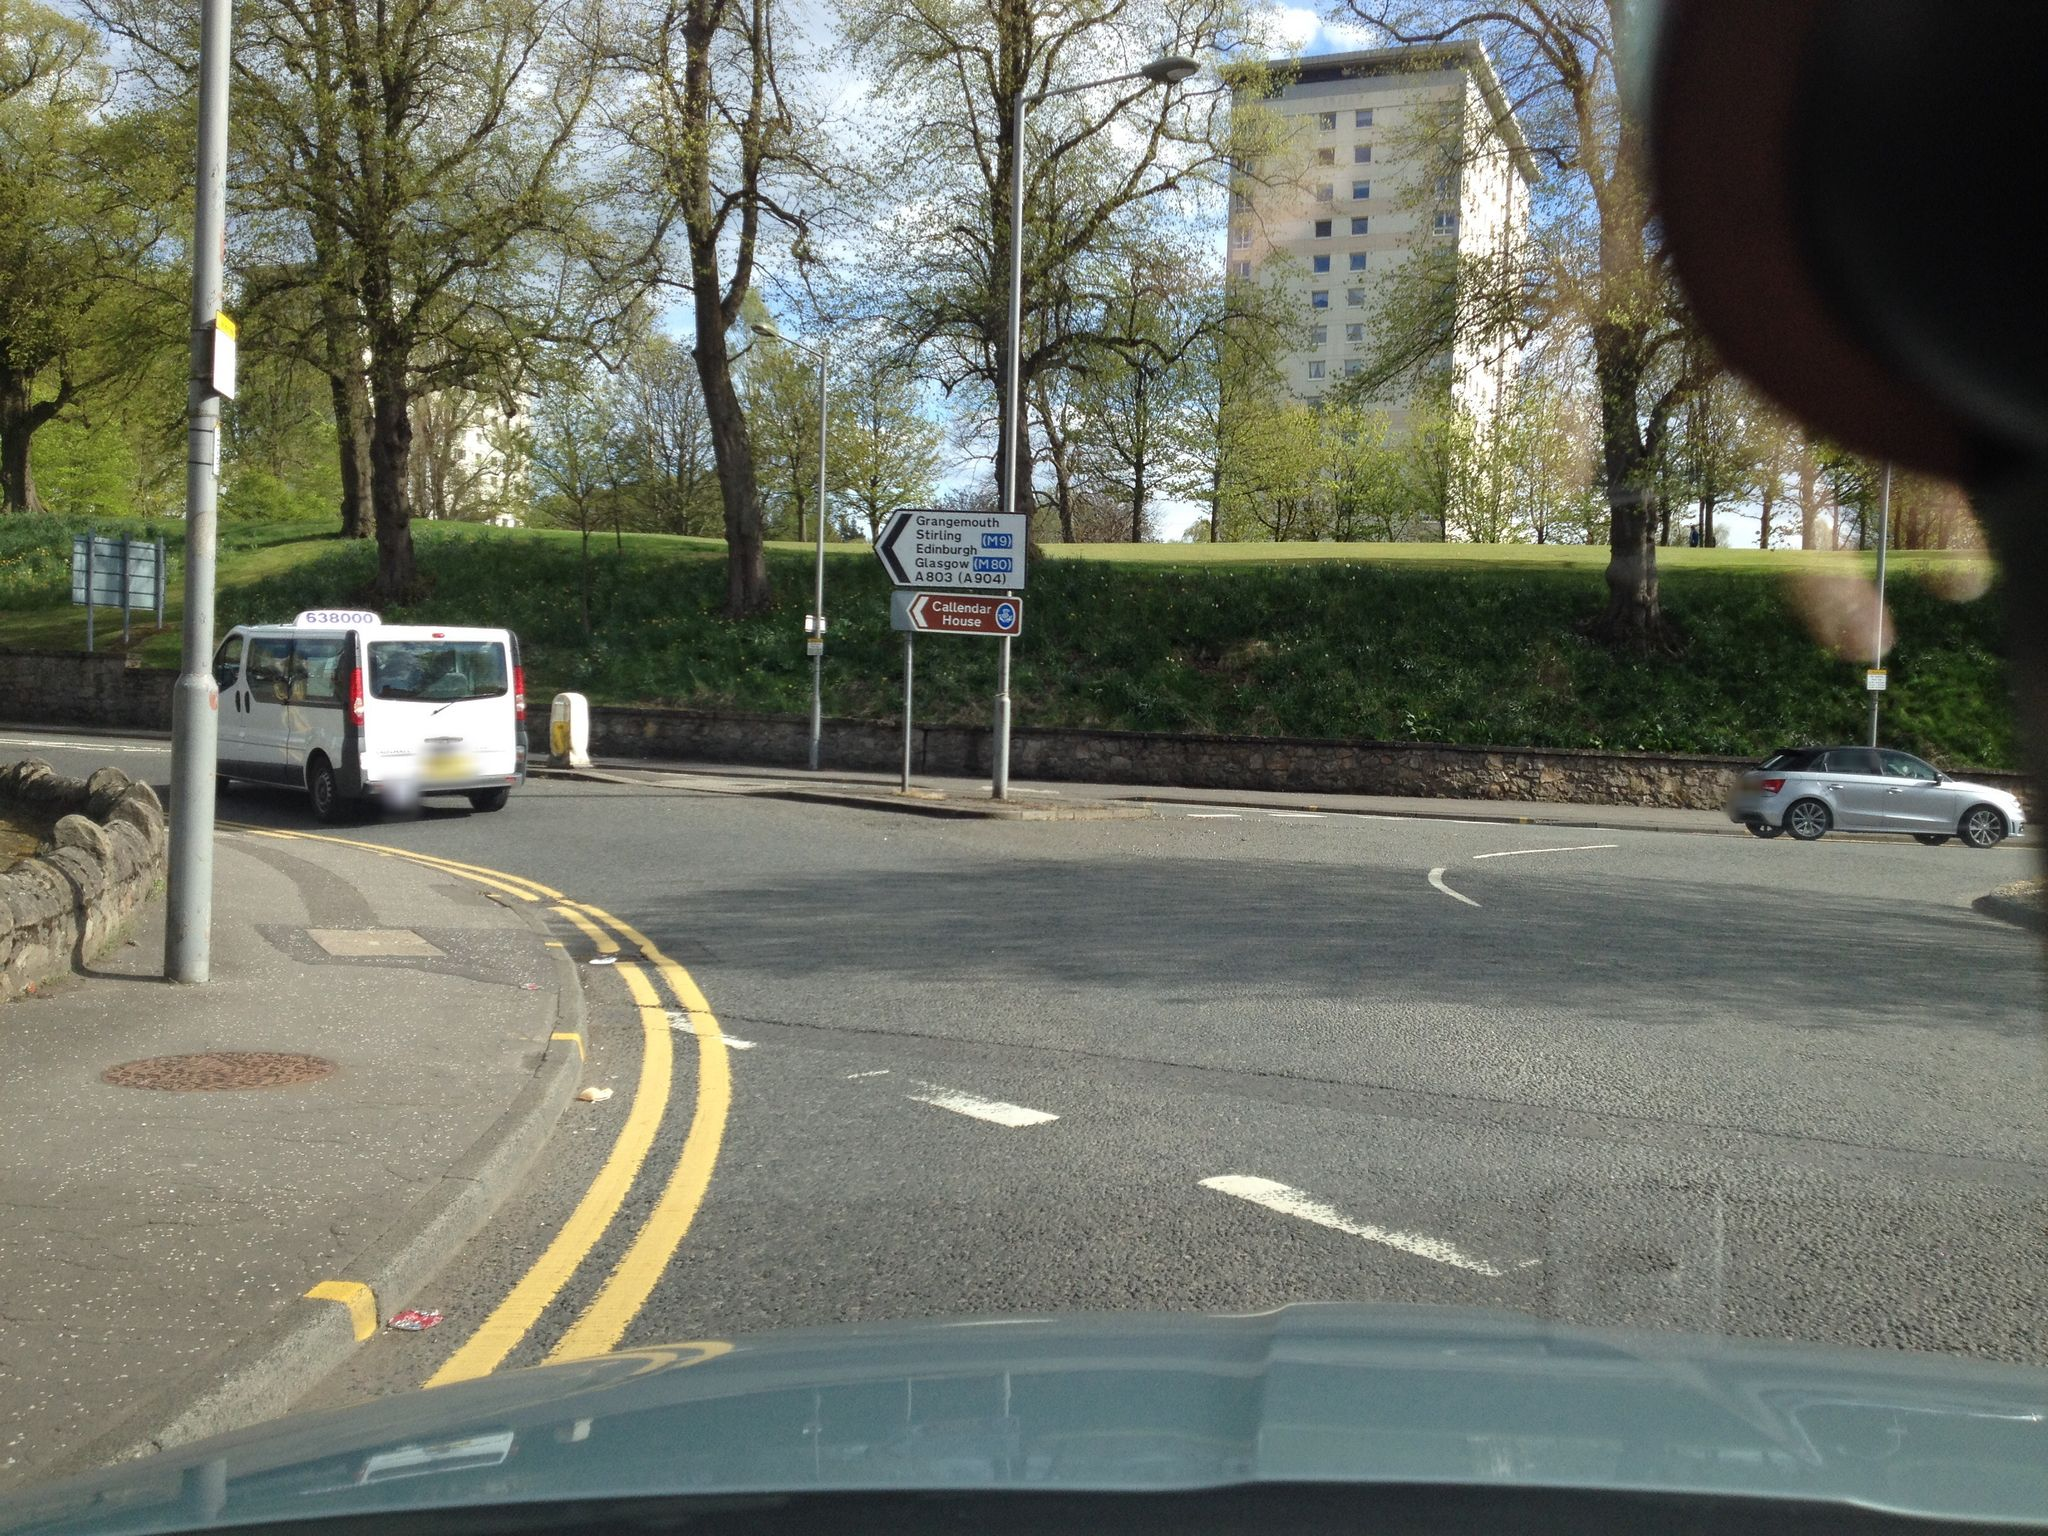car: (208, 607, 531, 823), (1725, 739, 2029, 850)
